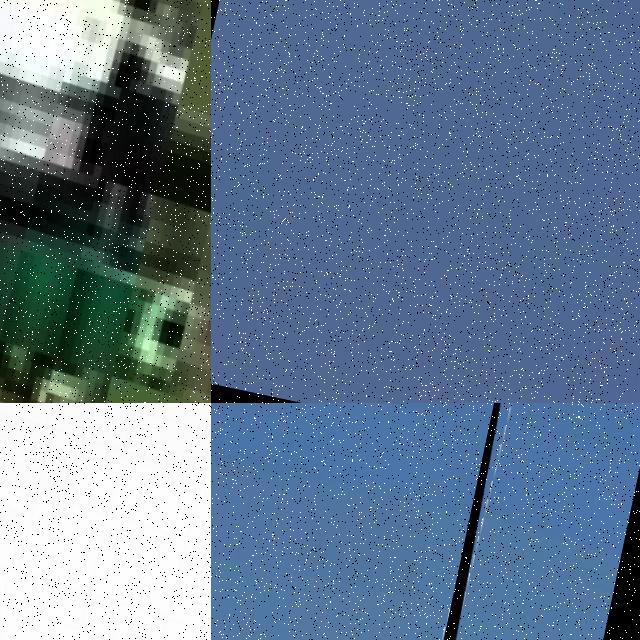drone: (0, 0, 211, 403), (418, 403, 640, 640), (0, 403, 211, 640)
